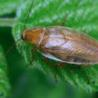cockroach: (21, 24, 98, 66)
